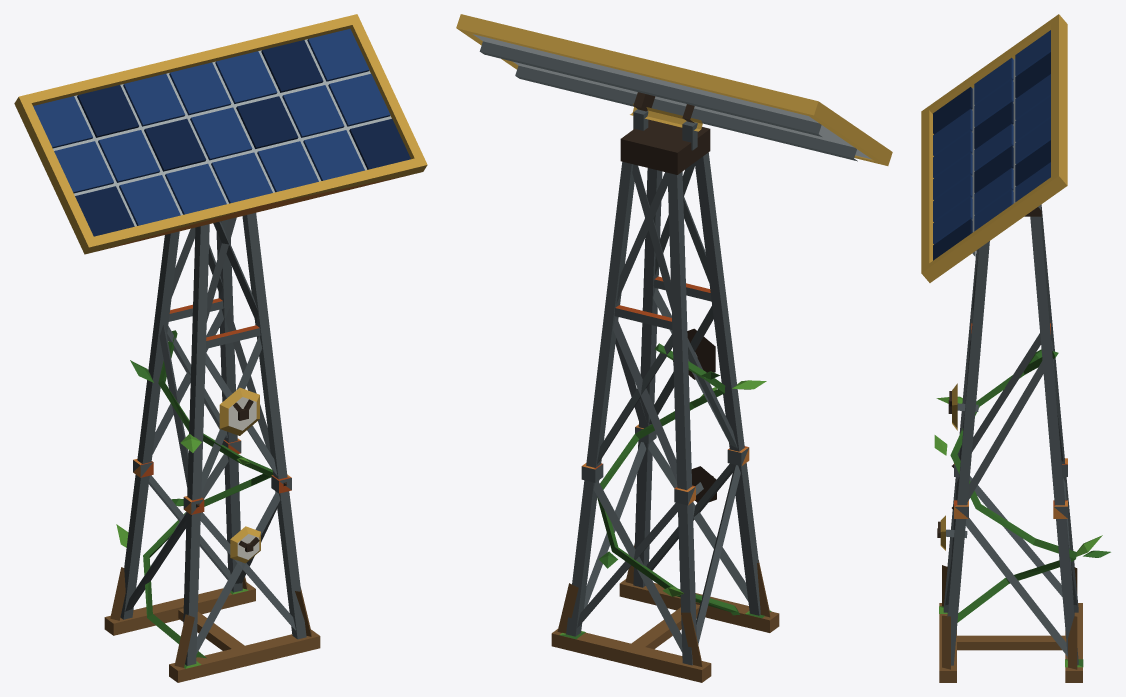
Rendered from tilting-solar-tracker-48051b.glb.
3 renders of one model, left to right at view 1: azimuth 30°, elevation 25°; view 2: azimuth 150°, elevation 25°; view 3: azimuth 270°, elevation 25°, orthographic. The views are drawn at different scales.
Visible parts, largest first — view 1: panel-shell, tracker-mast; view 2: tracker-mast, panel-shell; view 3: panel-shell, tracker-mast.
Part boxes in pixels (box(x1,y1,x2,y2)): panel-shell: box(14, 14, 427, 254); tracker-mast: box(104, 213, 320, 682); tracker-mast: box(551, 103, 779, 682); panel-shell: box(456, 14, 892, 165); panel-shell: box(921, 14, 1067, 282); tracker-mast: box(934, 204, 1110, 682).
Bounding box in the file's own units: 4.38 × 6.98 × 2.18.
